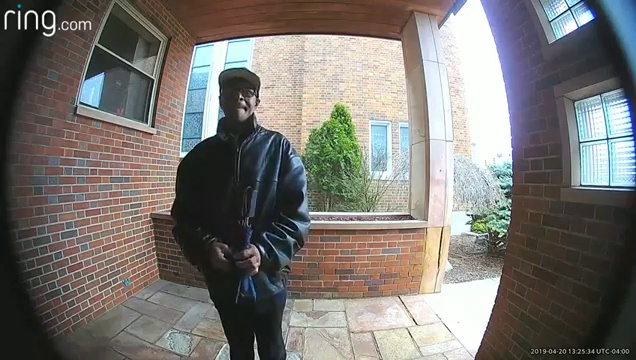face: (221, 82, 257, 117)
